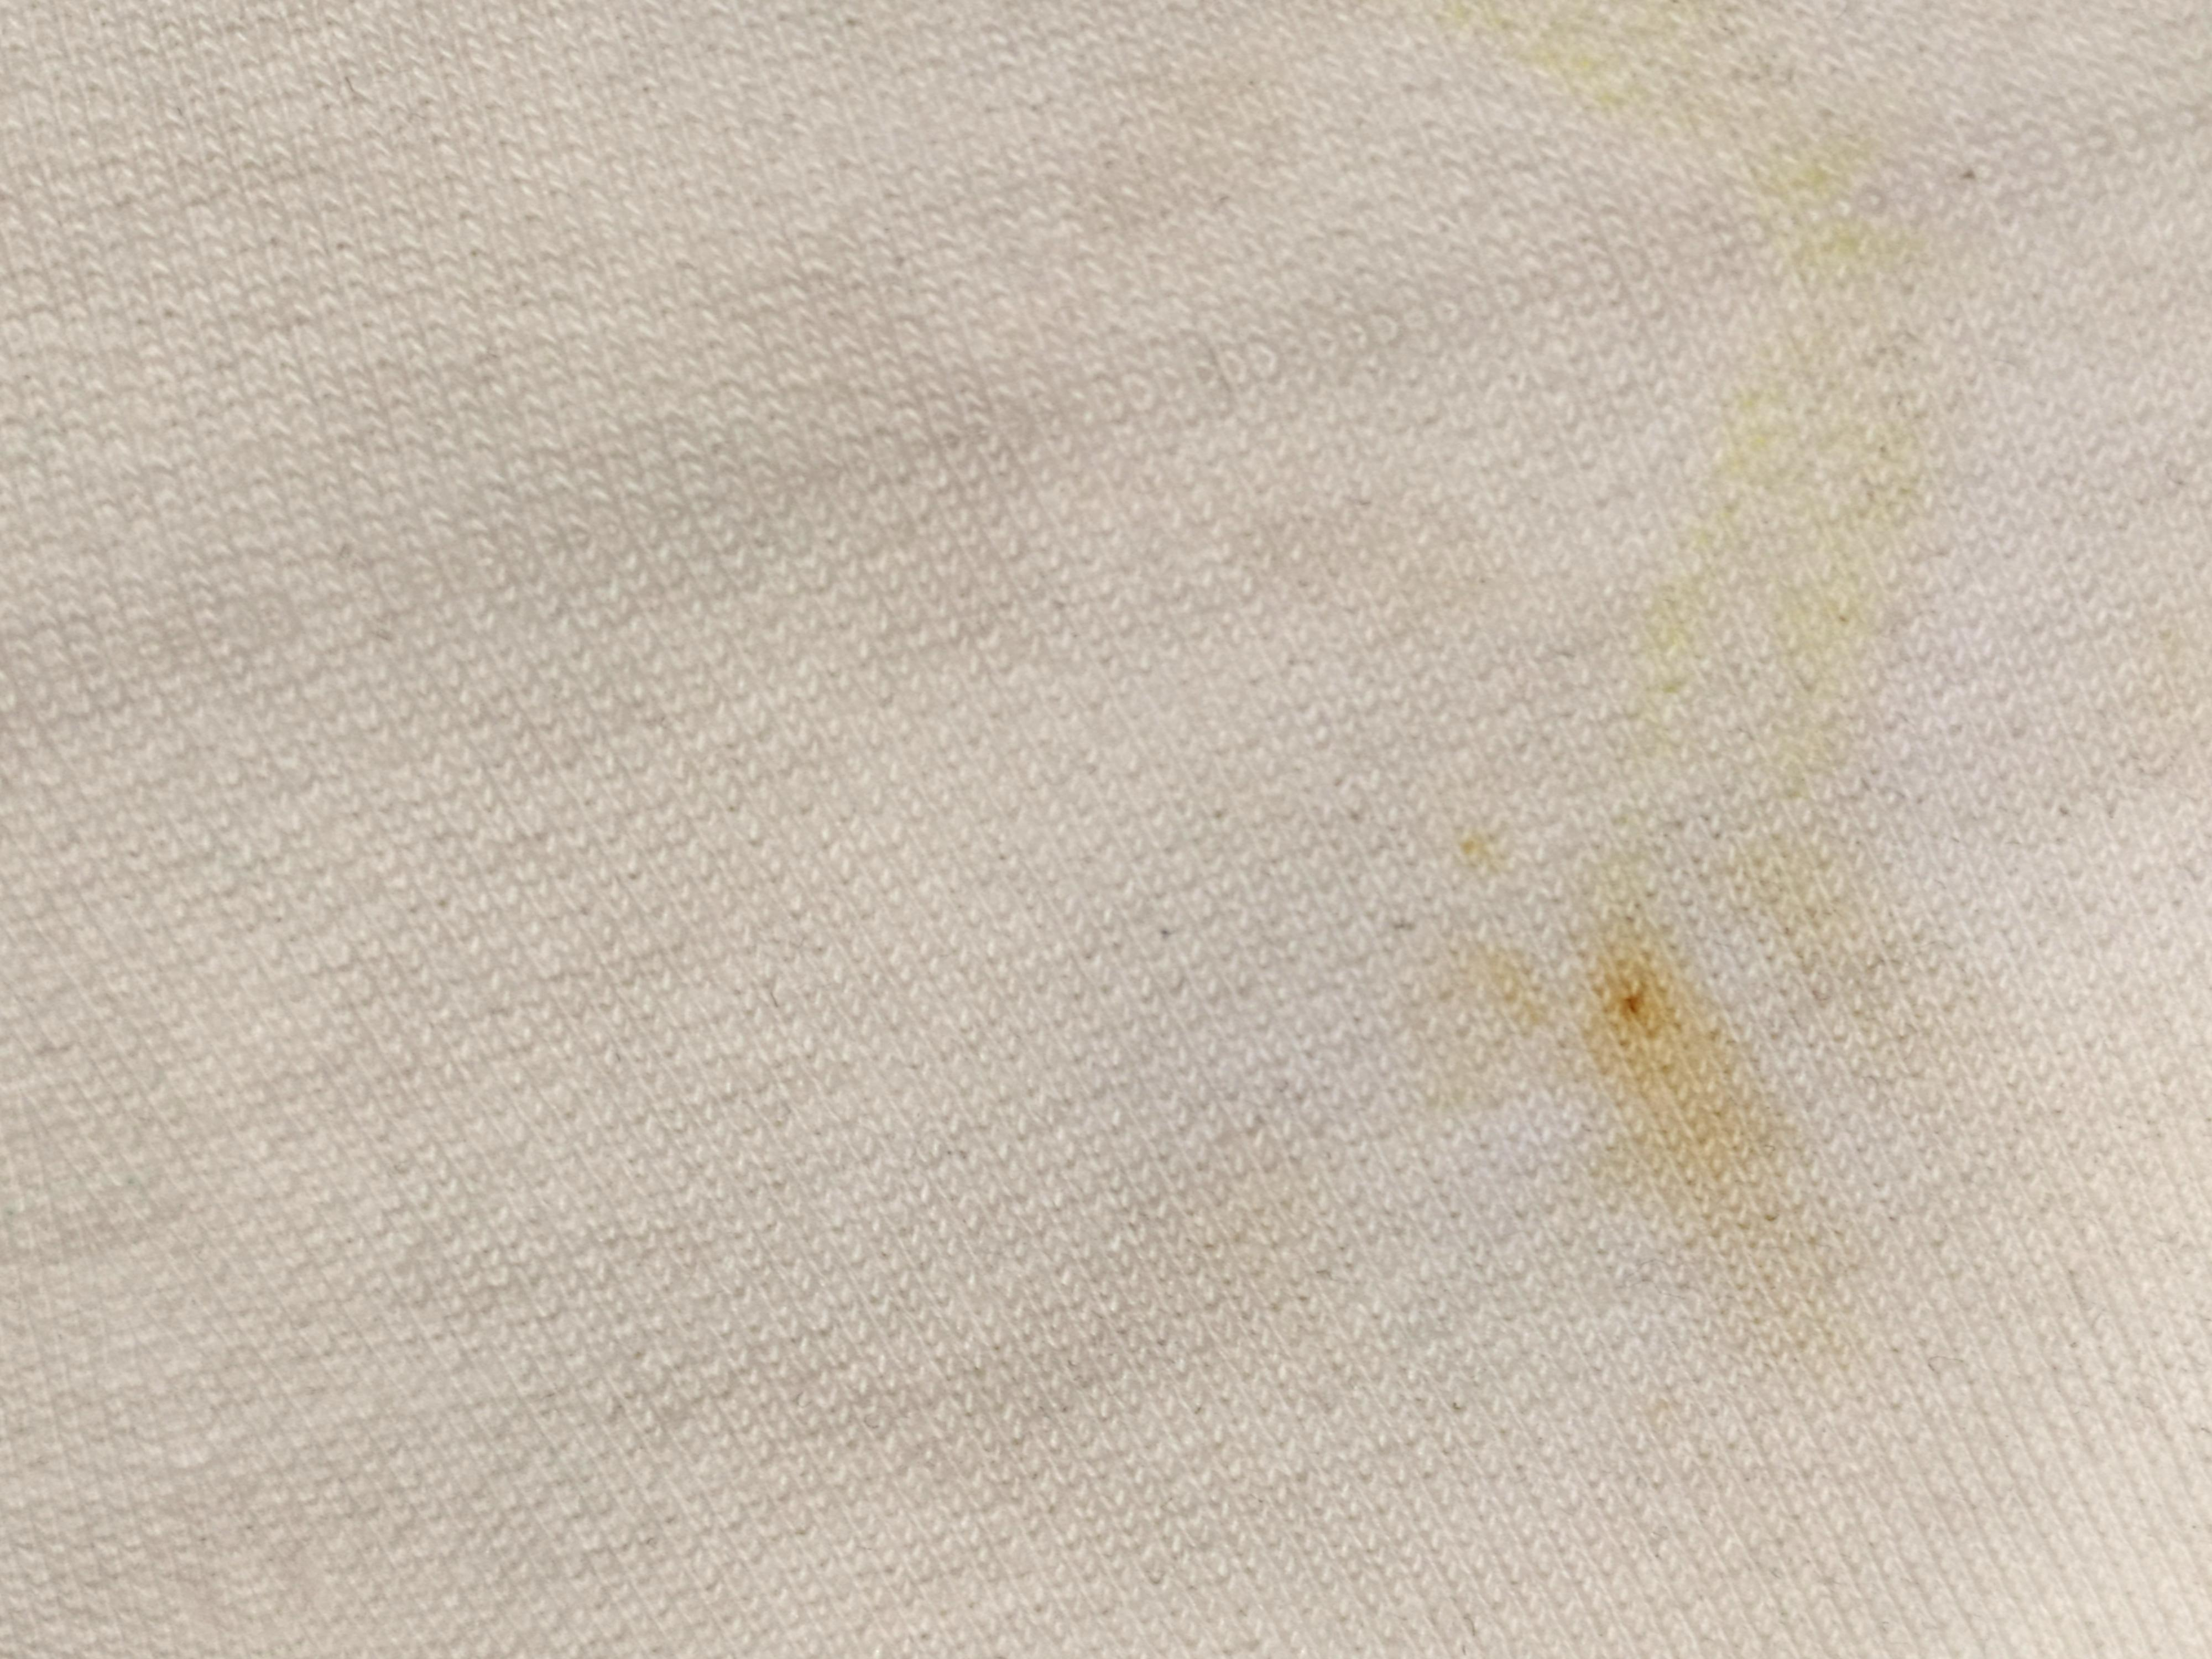stain: (1534, 857, 1763, 1183)
